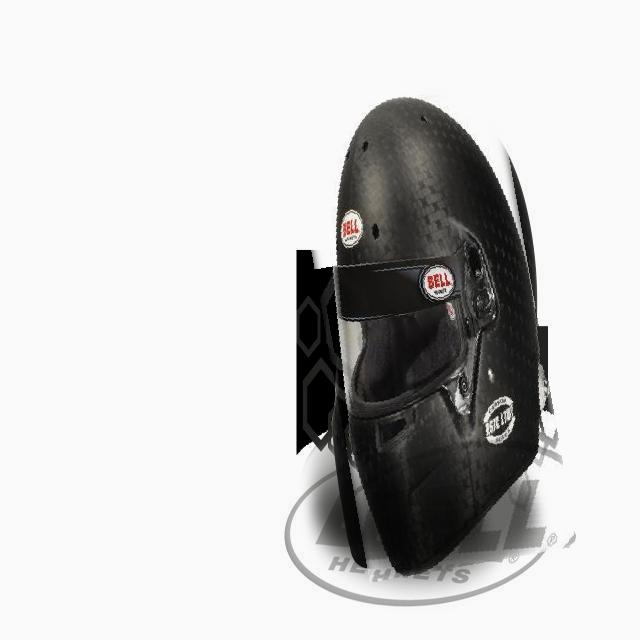helmet: (307, 86, 558, 575)
